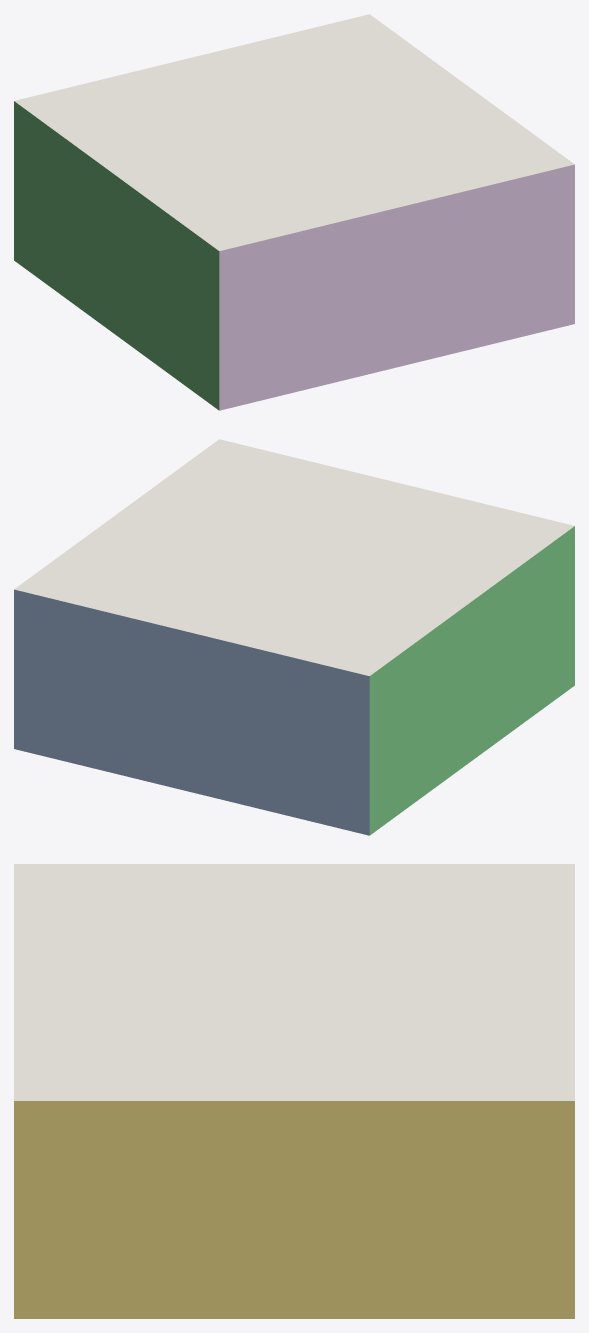
The model's file is Beetle.glb.
3 renders of one model, top to bottom at view 1: azimuth 30°, elevation 25°; view 2: azimuth 150°, elevation 25°; view 3: azimuth 270°, elevation 25°, orthographic. The views are drawn at different scales.
Visible parts, largest first — view 1: Ceiling, Wall_Front, Wall_Left; view 2: Ceiling, Wall_Back, Wall_Left; view 3: Ceiling, Wall_Right.
Part boxes in pixels (x1,y1,x2,y2): Ceiling: (14, 14, 574, 250); Wall_Front: (219, 164, 574, 410); Wall_Left: (14, 101, 219, 410); Ceiling: (14, 439, 574, 675); Wall_Back: (14, 589, 369, 835); Wall_Left: (369, 526, 574, 835); Ceiling: (14, 864, 574, 1100); Wall_Right: (14, 1101, 574, 1318).
Size of the model in its own units: 14 by 6 by 14.
